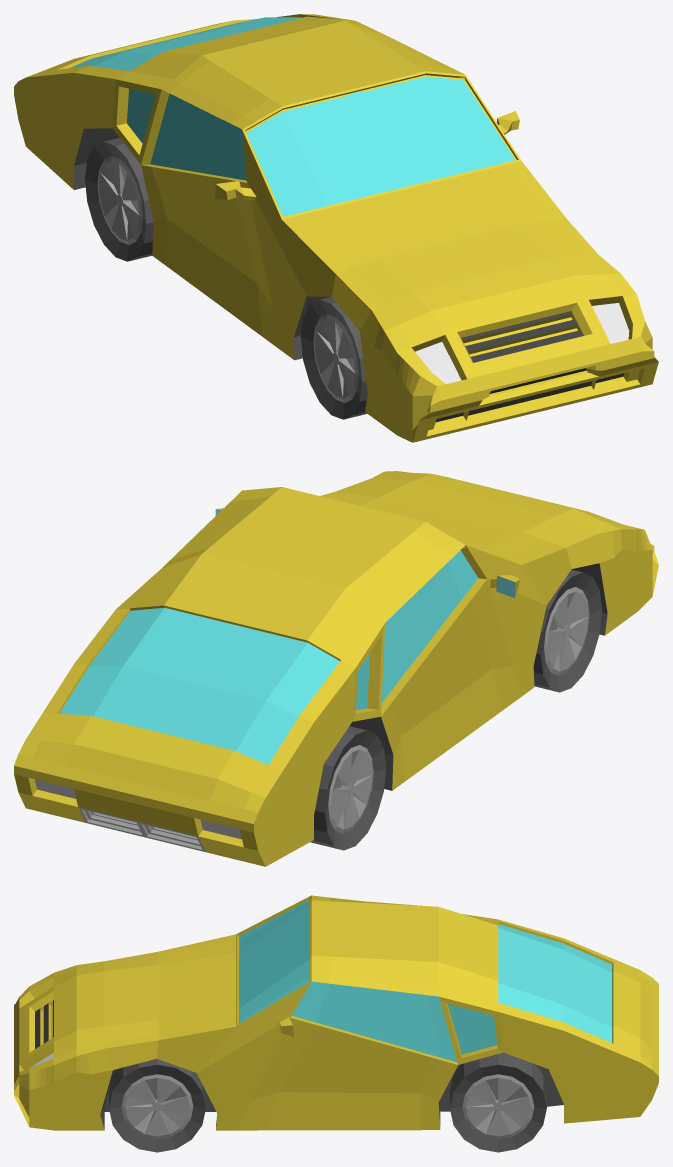
File: porch low poly car.fbx
The picture shows the model from 3 angles, top to bottom: view 1: azimuth 30°, elevation 25°; view 2: azimuth 150°, elevation 25°; view 3: azimuth 270°, elevation 25°; orthographic projection. The views are drawn at different scales.
Visible parts, largest first — view 1: Cube; view 2: Cube; view 3: Cube.
Boxes of the visible parts, left/top/right/bottom form: Cube: left=14, top=14, right=658, bottom=442; Cube: left=14, top=471, right=658, bottom=866; Cube: left=14, top=895, right=658, bottom=1152.
Bounding box in the file's own units: 228 × 164 × 537.
